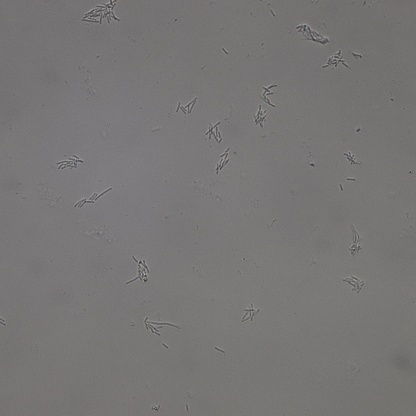R(colony): (82, 1, 120, 23), (73, 188, 112, 208), (143, 317, 181, 337), (126, 256, 151, 286), (296, 22, 328, 44), (348, 224, 362, 257), (322, 50, 349, 67), (56, 154, 84, 170), (342, 275, 365, 294), (215, 148, 231, 174), (205, 120, 223, 143), (262, 83, 278, 107), (240, 304, 261, 322), (253, 104, 268, 128), (176, 99, 197, 115), (345, 152, 361, 166)
